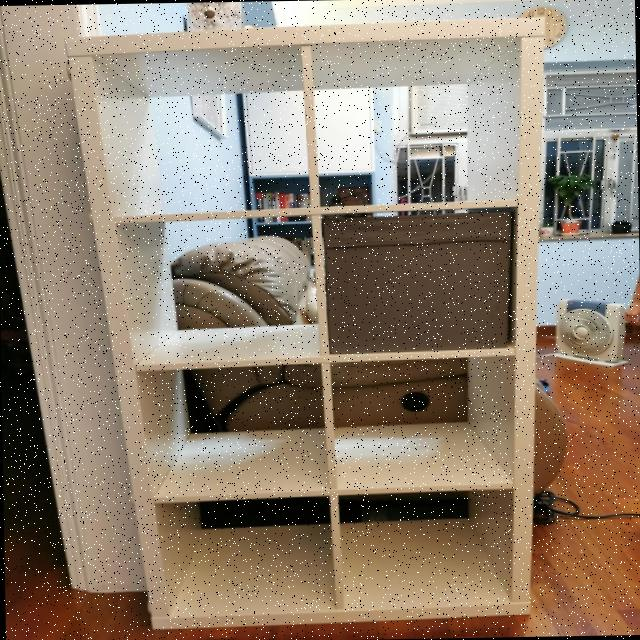Shelf: (53, 18, 564, 640)
